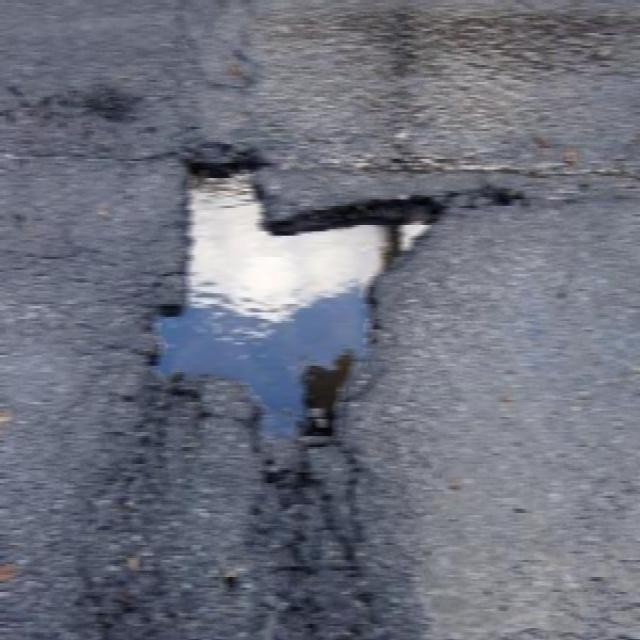Pothole: (128, 146, 456, 450)
